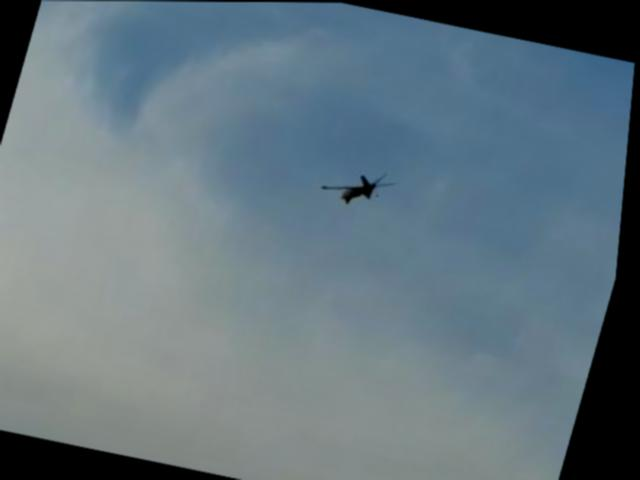uav: (317, 149, 412, 215)
